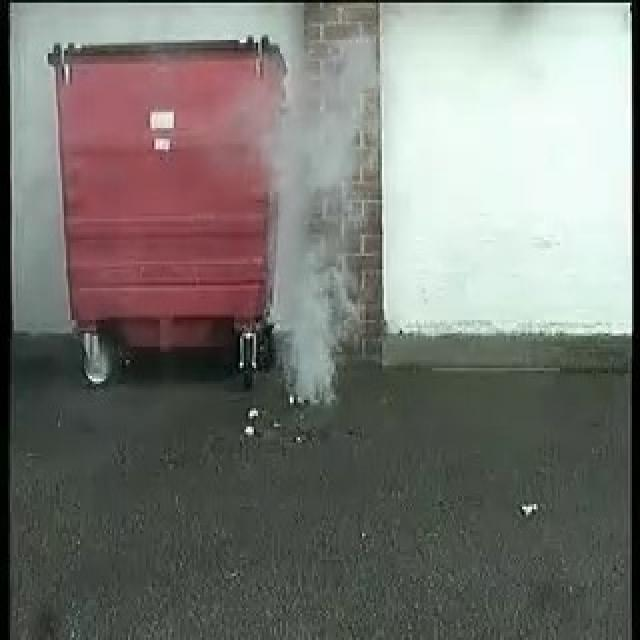smoke: (256, 33, 376, 407)
